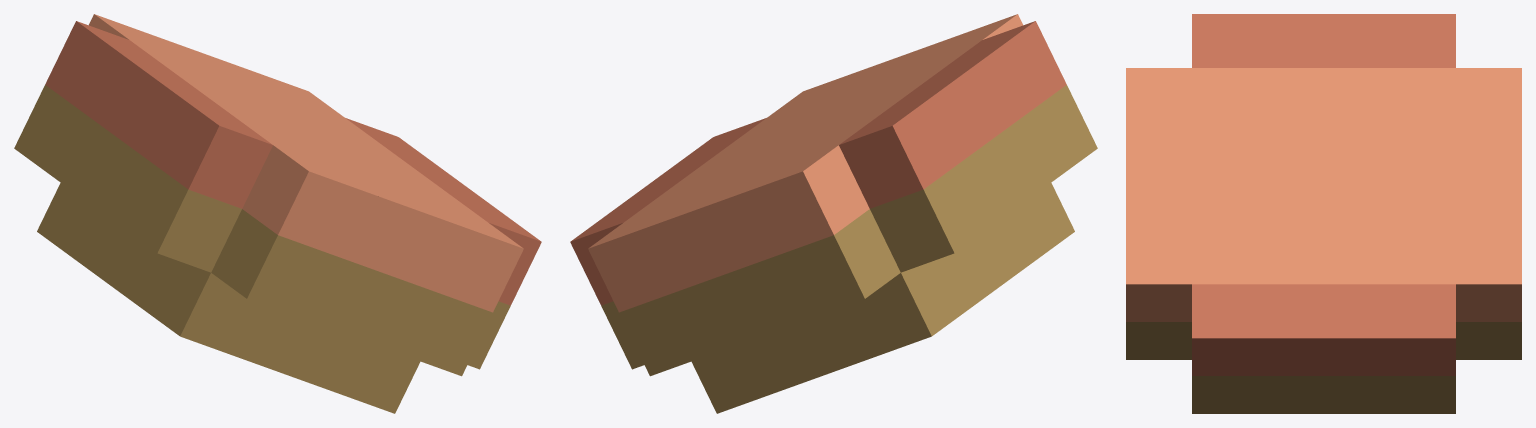
The model's file is Mushroom Soup.glb.
3 views of the same model, side by side, from view 1: azimuth 30°, elevation 25°; view 2: azimuth 150°, elevation 25°; view 3: azimuth 270°, elevation 25° (orthographic). The views are drawn at different scales.
Parts seen in each view (by area): view 1: cube (×7); view 2: cube (×7); view 3: cube (×5).
Part boxes in pixels (<box>): cube (×7): <box>14,14,541,413</box>; cube (×7): <box>570,14,1097,413</box>; cube (×5): <box>1126,14,1521,413</box>.
Size of the model in its own units: 6.2 by 5.1 by 6.
Materials: 1 (1 with a texture image).
